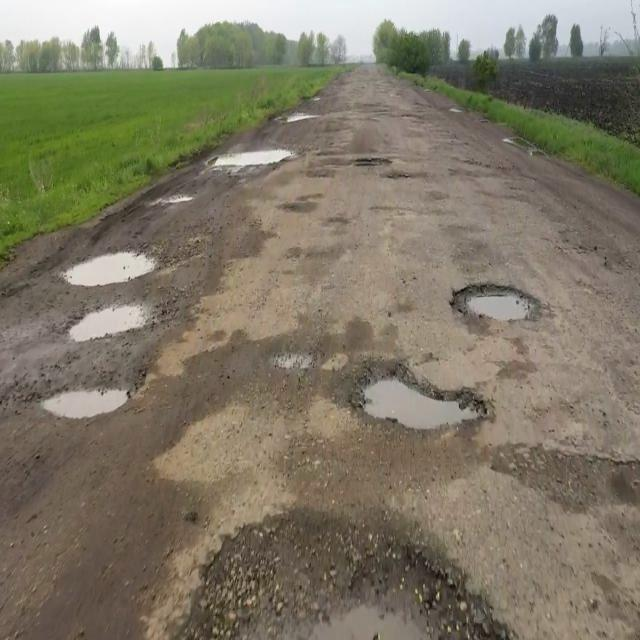Pothole: (314, 386, 498, 446), (298, 146, 442, 218), (42, 234, 176, 287), (428, 284, 550, 337), (64, 286, 167, 340), (40, 374, 145, 426), (186, 138, 292, 176), (100, 182, 220, 215), (267, 101, 330, 122)
